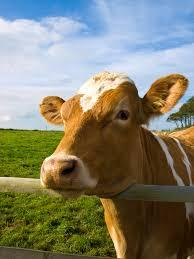cow: (39, 70, 194, 259)
